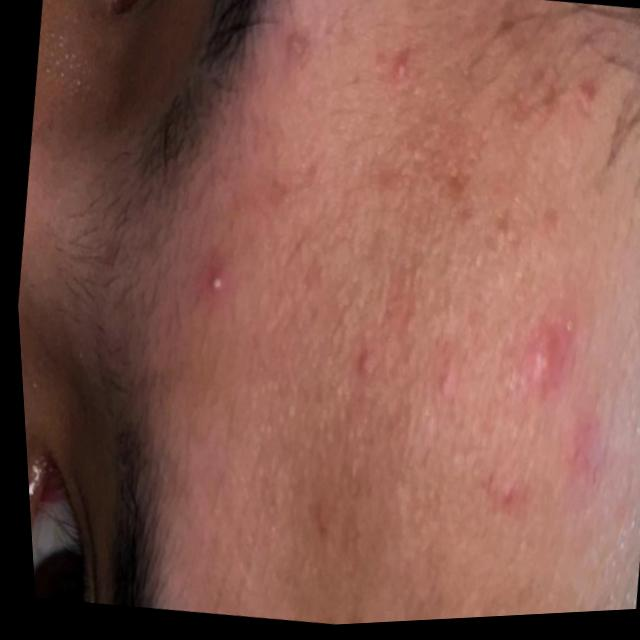papule: (477, 269, 624, 561)
pustule: (370, 33, 435, 131), (192, 253, 234, 317)
